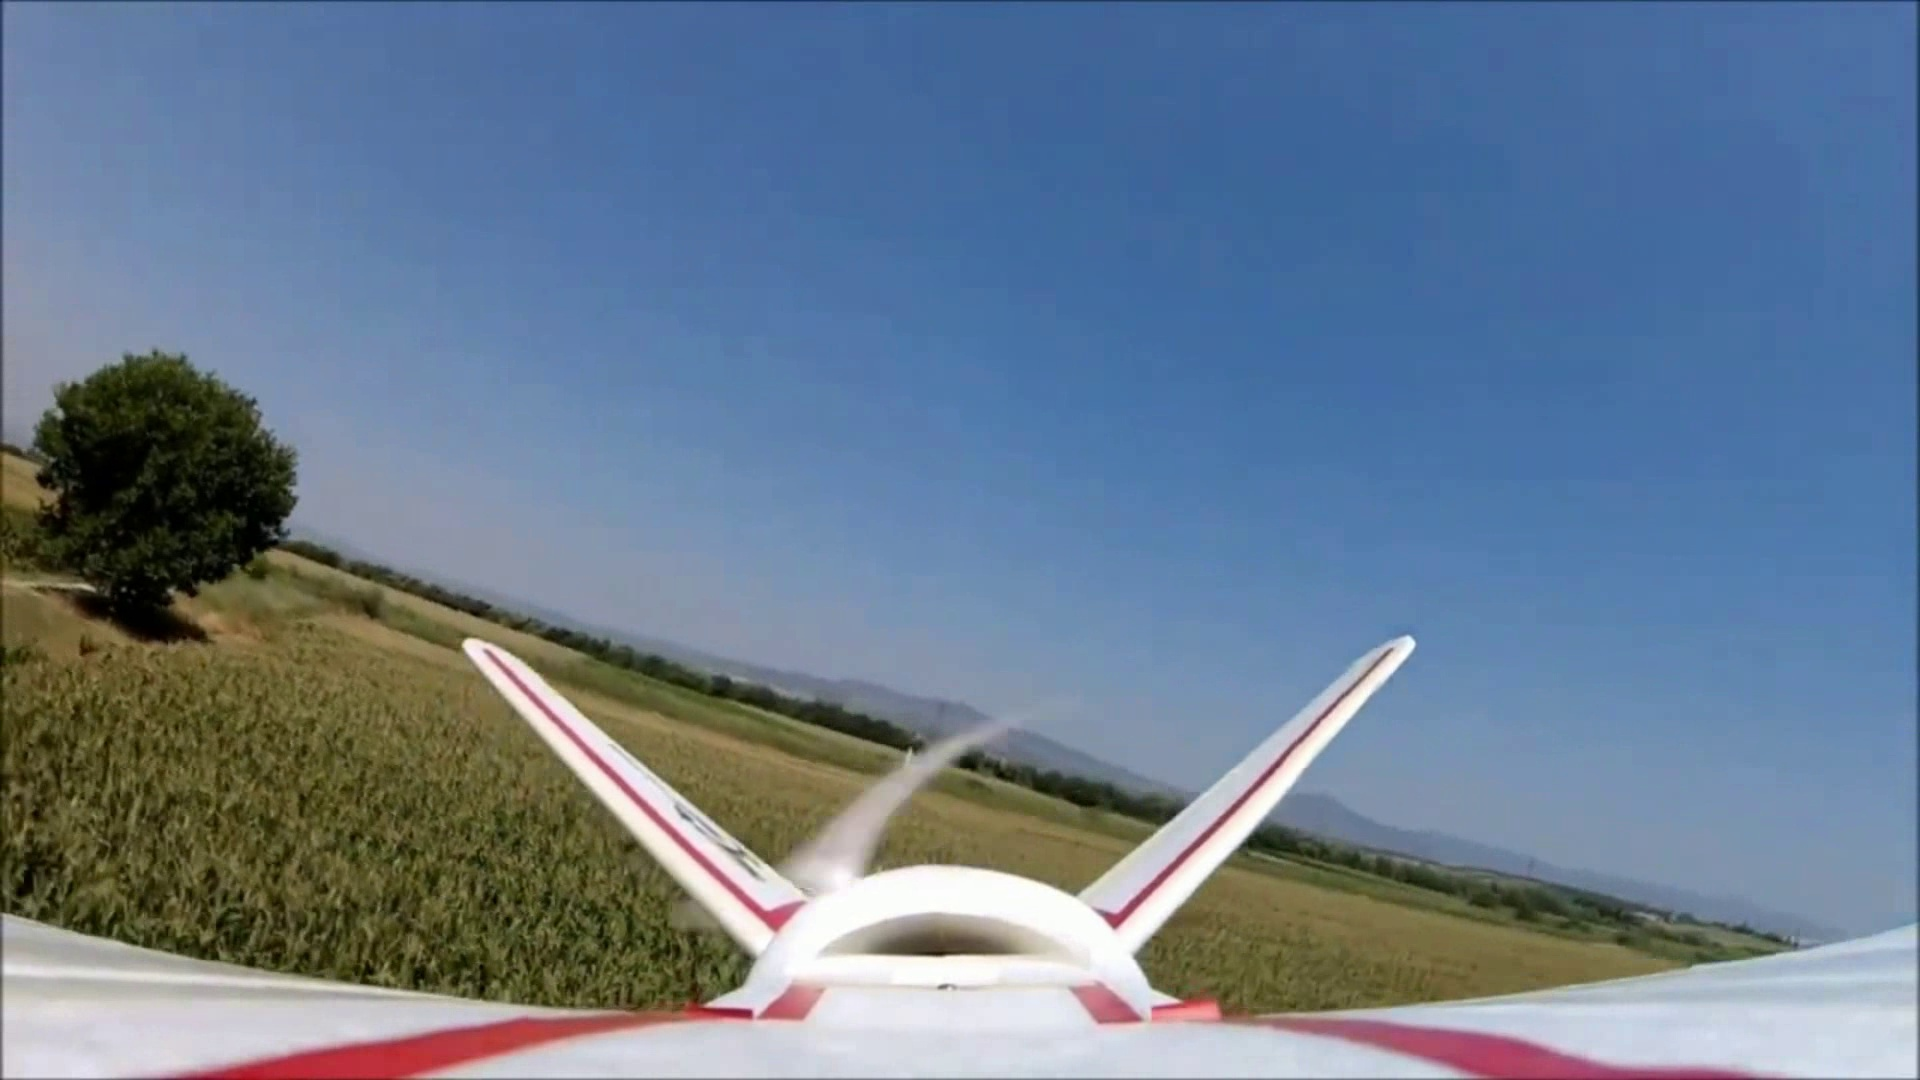airplane: (6, 624, 1874, 1056)
